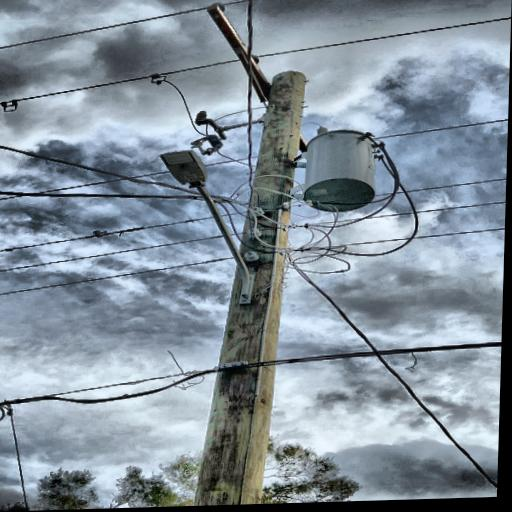pole: (187, 70, 312, 506)
street light: (154, 140, 277, 309)
transformer: (295, 125, 384, 215)
